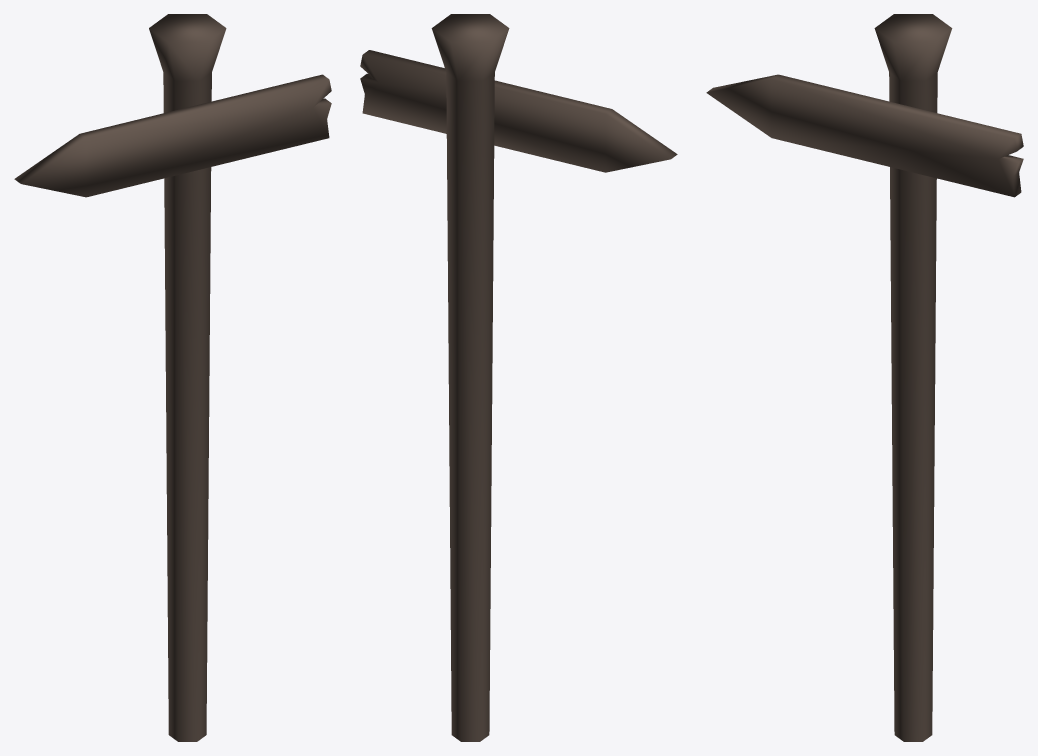
Rendered from signpost.glb.
The picture shows the model from 3 angles, left to right: view 1: azimuth 30°, elevation 25°; view 2: azimuth 150°, elevation 25°; view 3: azimuth 330°, elevation 25°; orthographic projection.
Parts seen in each view (by area): view 1: sign_0; view 2: sign_0; view 3: sign_0.
Boxes of the visible parts, x1,y1,x2,y2 form: sign_0: (14,14,331,741); sign_0: (360,14,677,741); sign_0: (706,14,1023,741).
Bounding box in the file's own units: 0.9204 × 2 × 0.2035.
